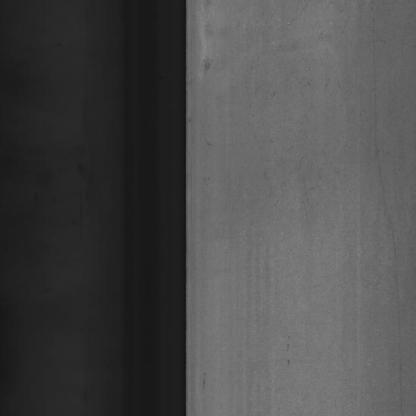inclusion: (279, 328, 298, 379)
silk_spot: (262, 35, 336, 230)
